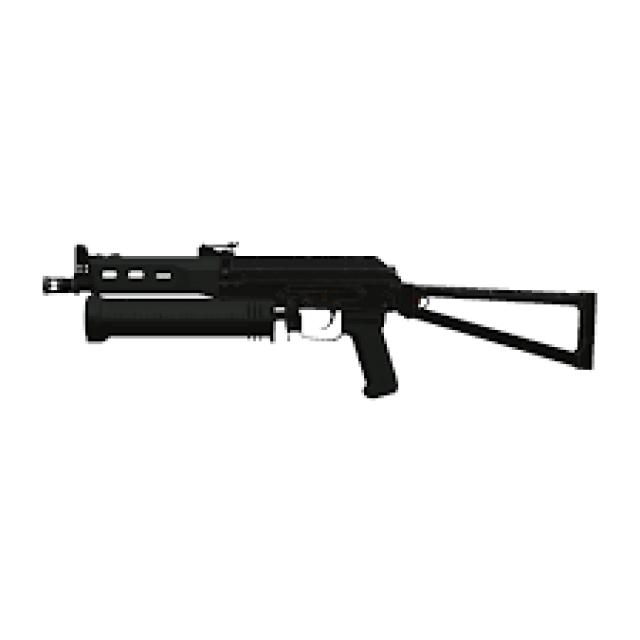firearm: (42, 242, 598, 398)
